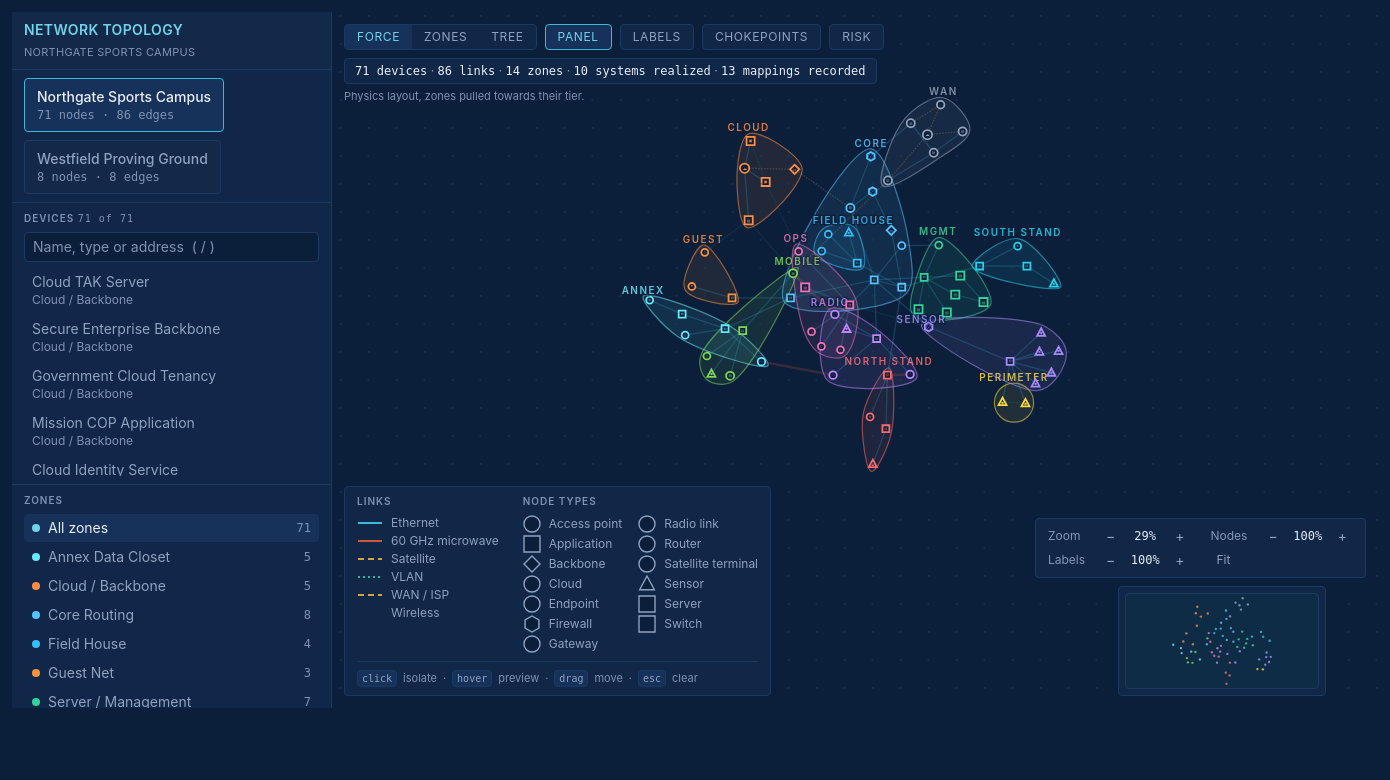
Single points of failure › stops claiming the rings are on while an overlay is hiding them
The image size is (1390, 780).
What coordinates should you click on to do the following:
click the button "Chokepoints"
I would click on:
 (762, 37)
Its box is [702, 24, 821, 50].
(page scrolled)
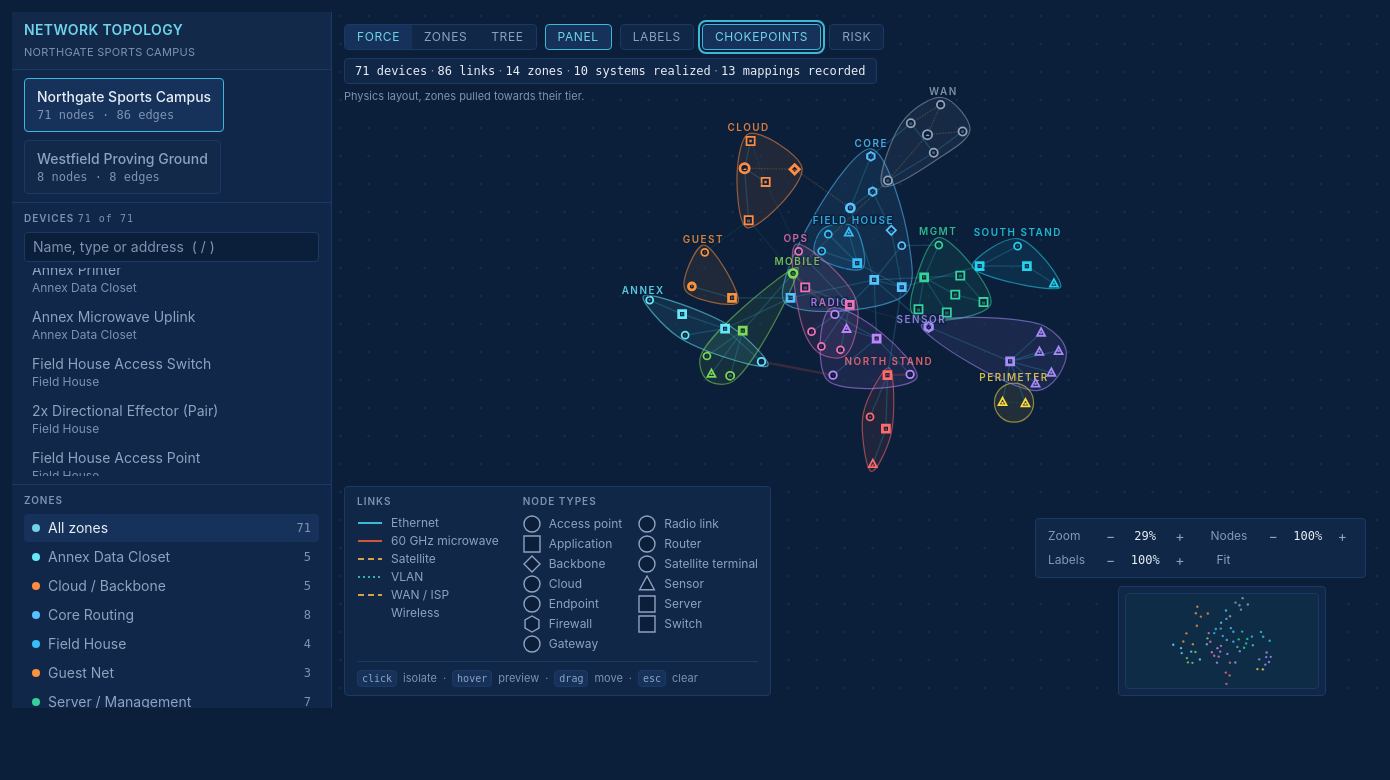
Expected: the button "Chokepoints" is pressed, [702, 24, 821, 50]
What coordinates should you click on to do the following:
click the button "Field House Access Switch Field House"
I would click on:
 (172, 372)
Its box is [24, 350, 319, 394].
(page scrolled)
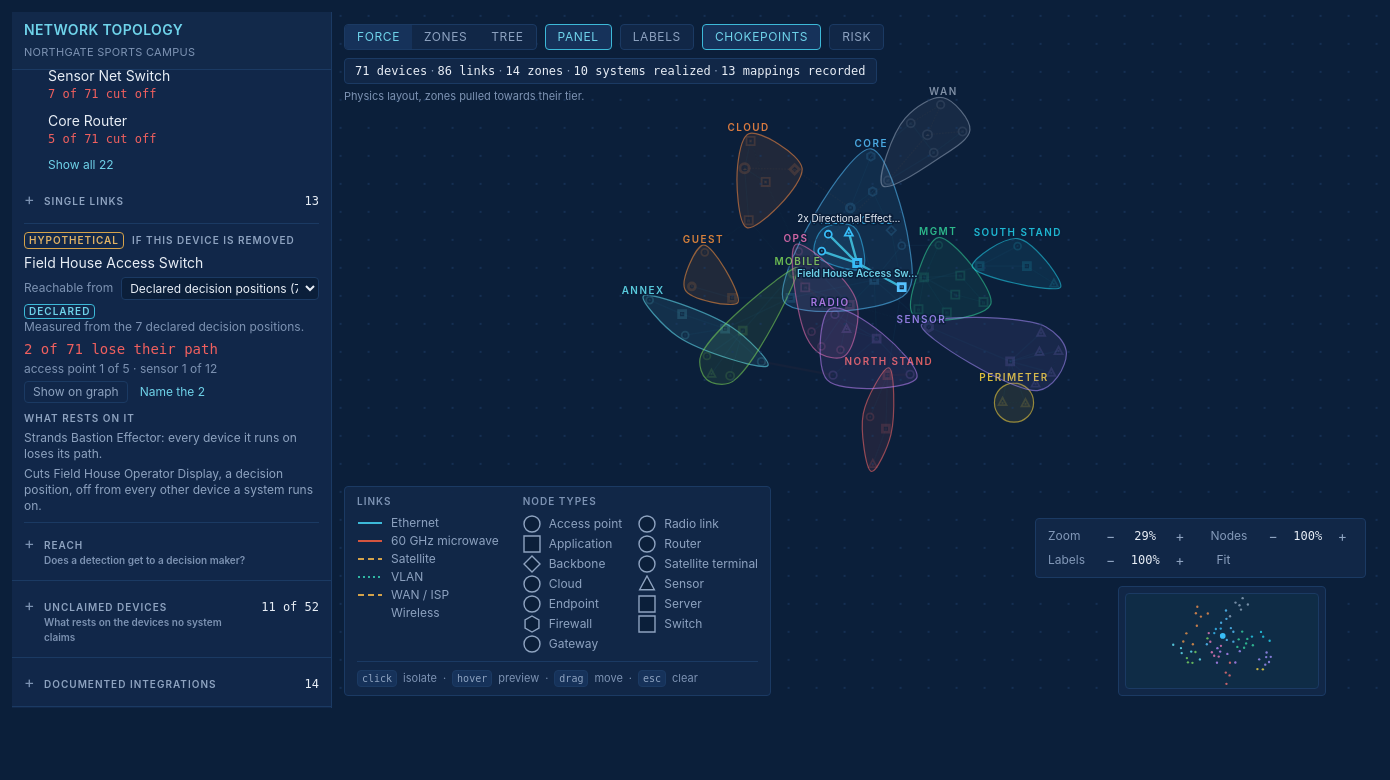
What coordinates should you click on to do the following:
click the button "Show on graph"
I would click on:
 (76, 392)
Its box is [24, 381, 128, 403].
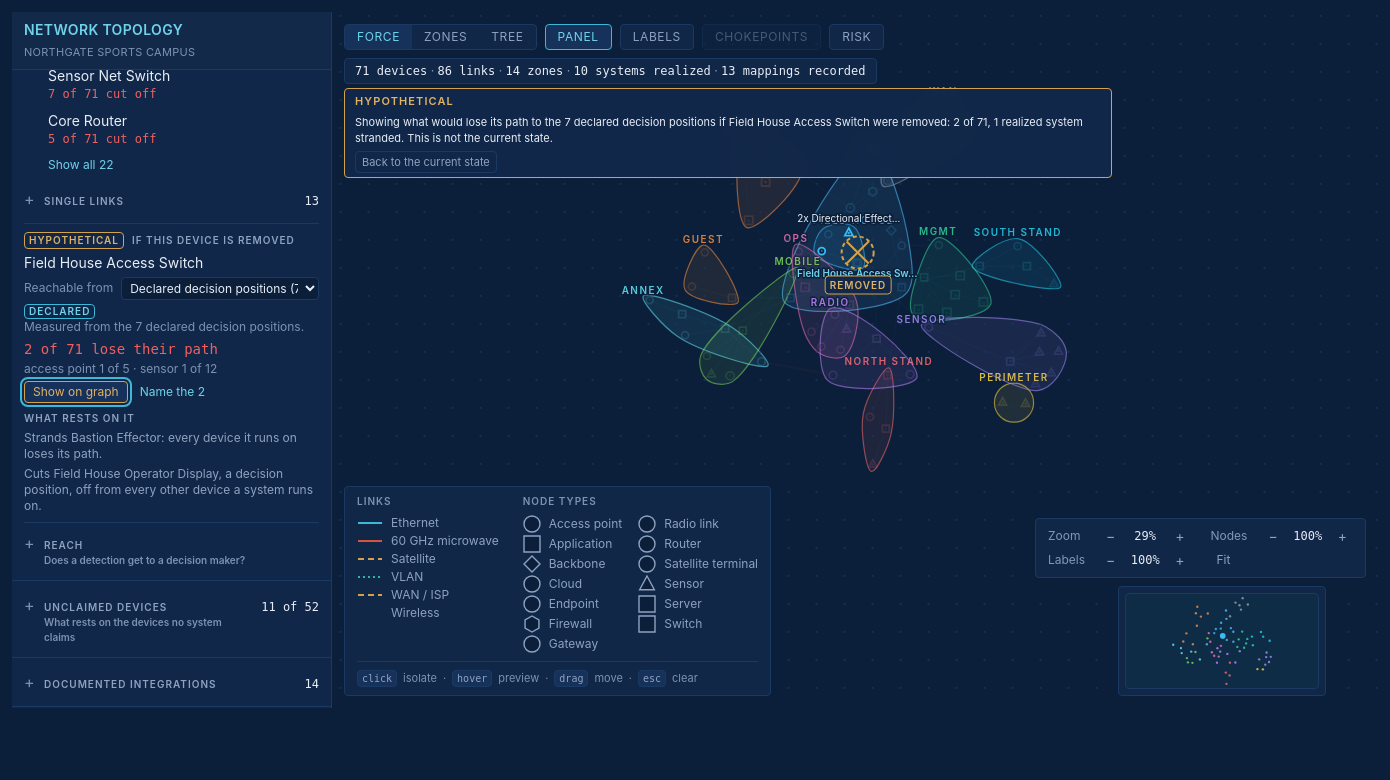
Expected: the button "Chokepoints" is disabled, [702, 24, 821, 50]
The preference survives the overlay, so the rings come back with it.
What coordinates should you click on to do the following:
click the button "Back to the current state"
I would click on:
 (426, 162)
Its box is [355, 150, 497, 173].
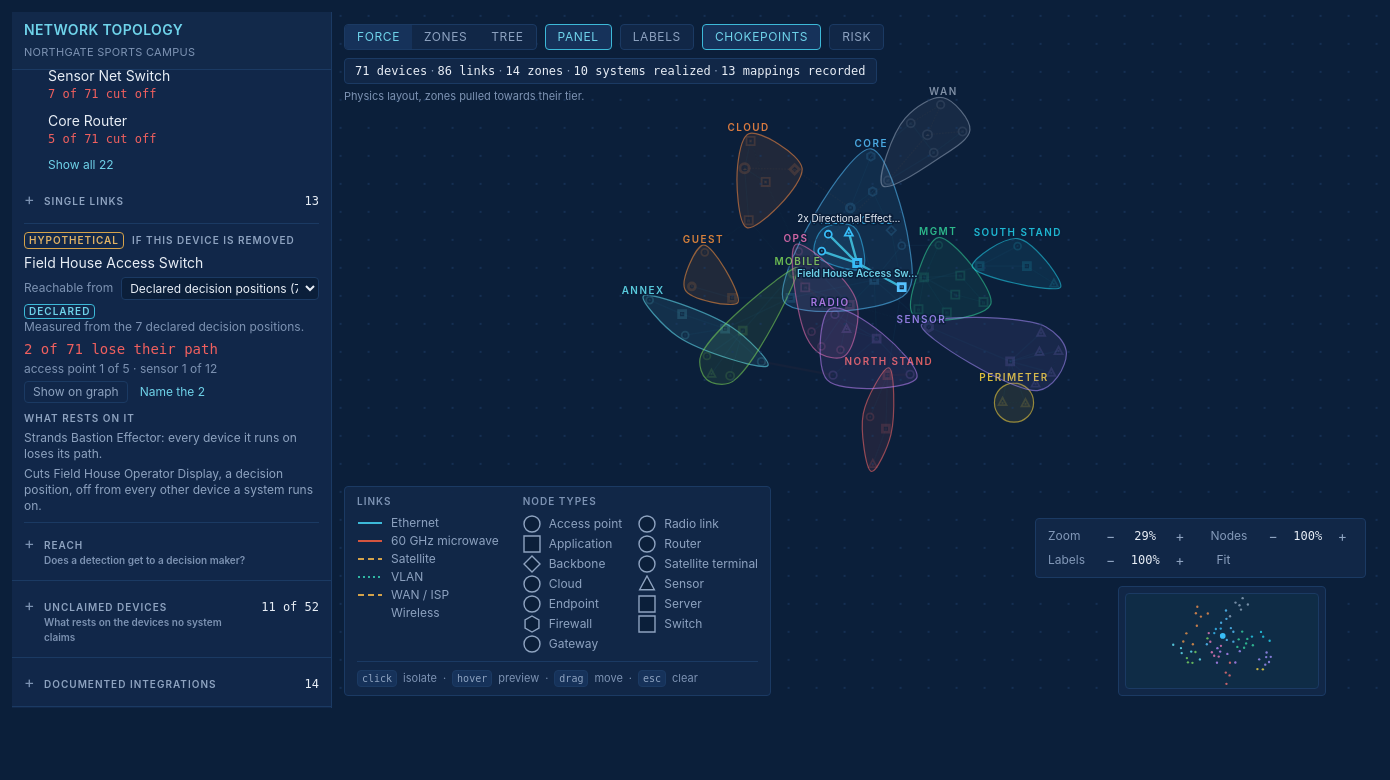
Expected: the button "Chokepoints" is enabled, [702, 24, 821, 50]
